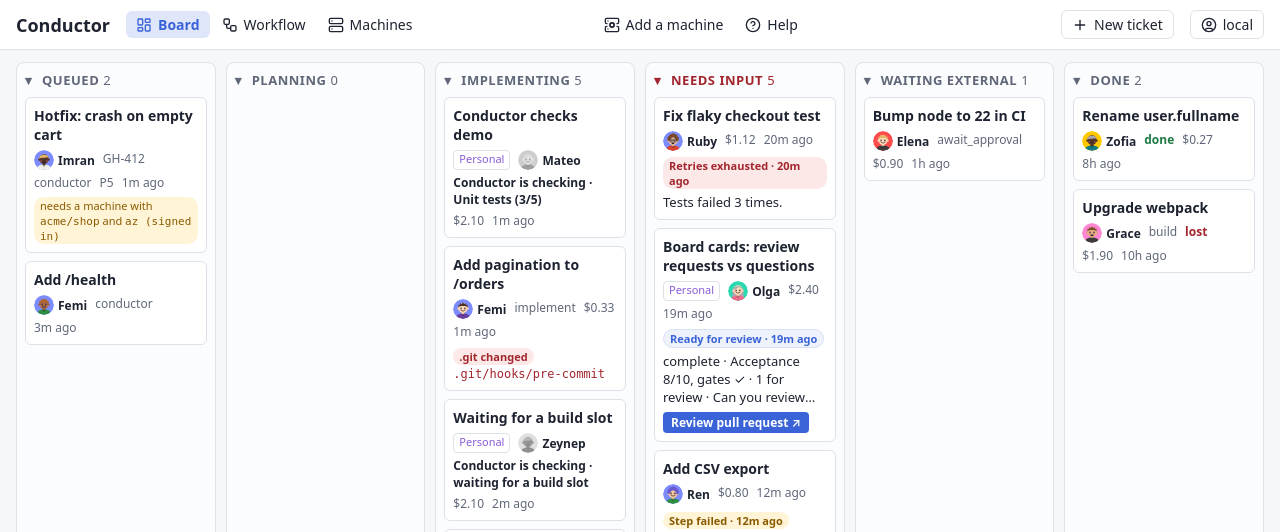
it: Start fresh conversation… › is not offered when return_to is not an agent state
What coordinates should you click on to do the following:
click the button "Fix flaky checkout test"
I would click on:
 (745, 116)
Its box is [663,106,827,125].
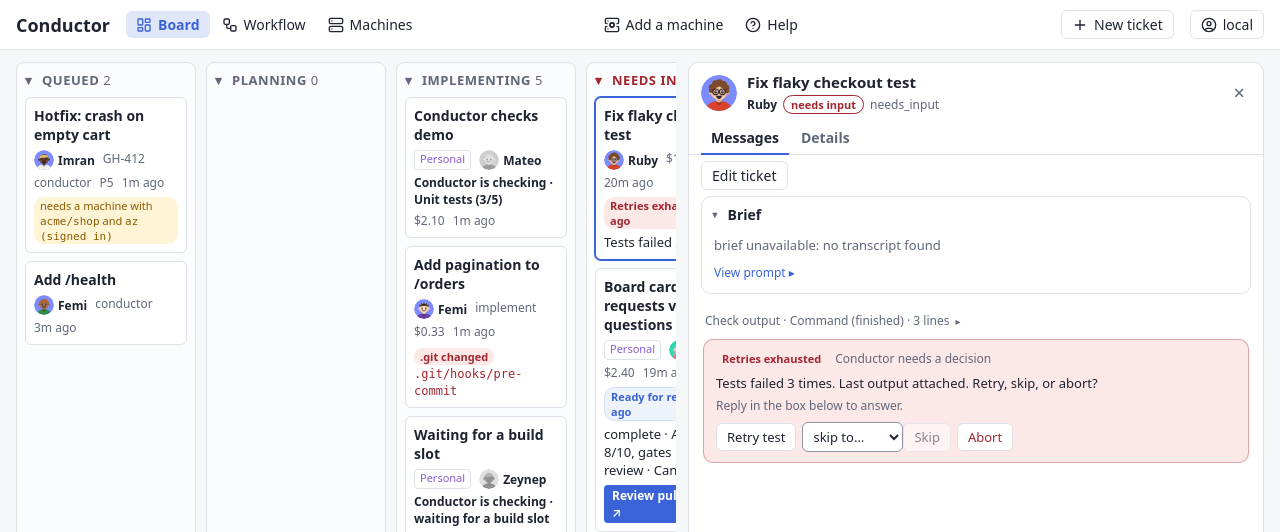
Now the element that starts with "Check output ·" is shown, box [703,312,1249,463]
